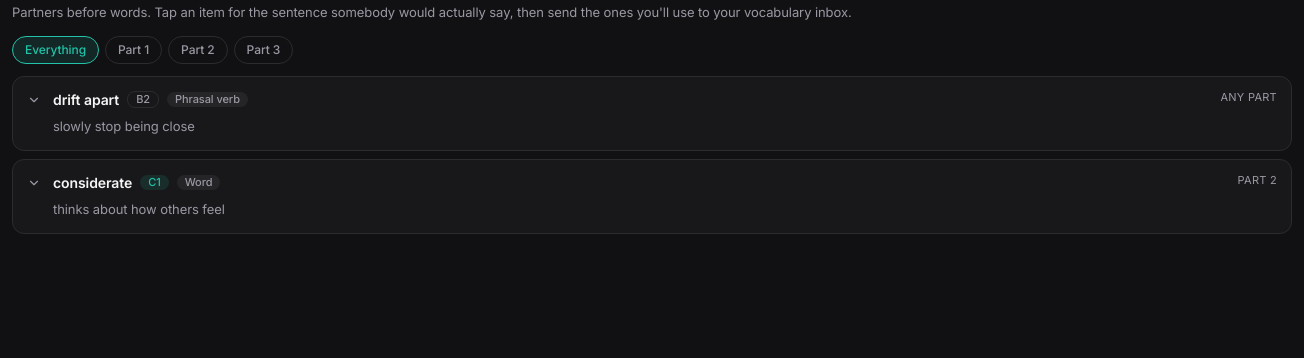
Scenario: topic vocabulary › puts partners before single words and reveals the example on demand
Check: the text "We drifted apart after she moved" is not shown
Click the button "drift apart B2 Phrasal verb slowly stop being close Any part": (86, 100) top-left (13, 77), bottom-right (1291, 150)
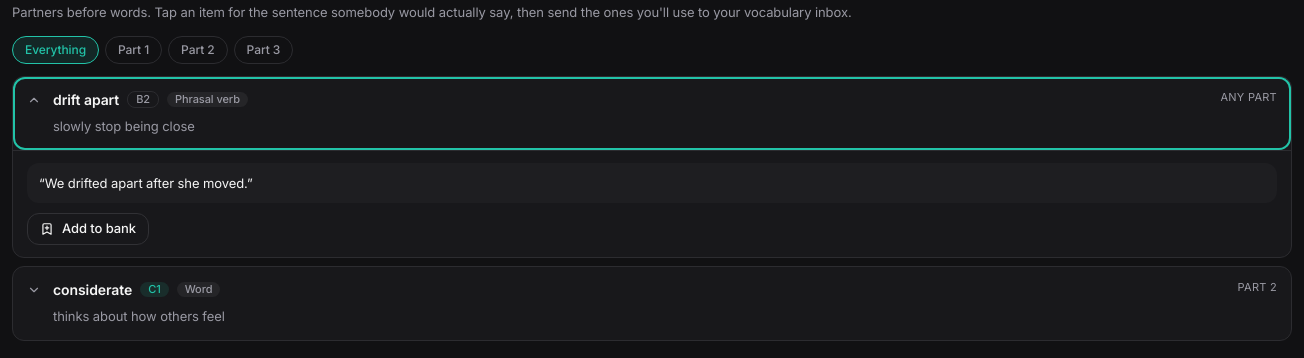
Check: the text "“We drifted apart after she moved.”" is shown, box top-left (27, 163), bottom-right (1277, 203)
